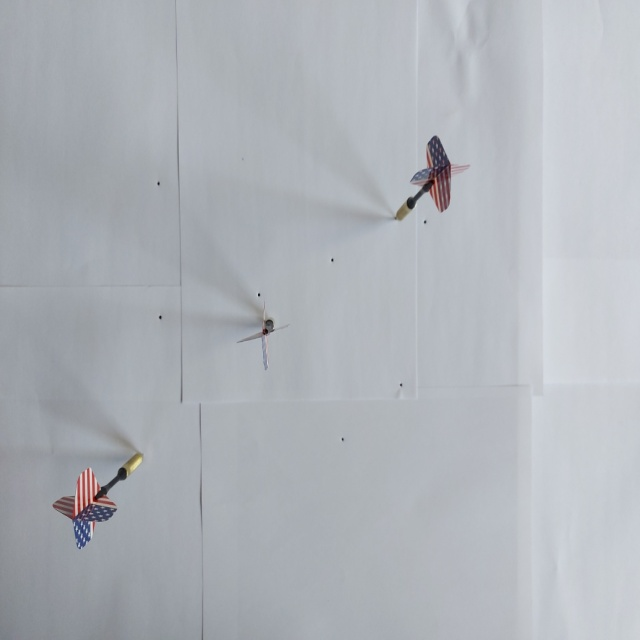Dart: (47, 450, 152, 552), (390, 133, 476, 229), (234, 298, 294, 375)
